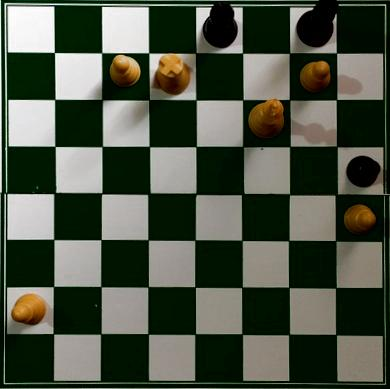black-king: (295, 1, 342, 48)
black-pawn: (344, 154, 380, 188)
black-rook: (200, 1, 240, 49)
white-king: (245, 95, 286, 140)
white-pawn: (295, 58, 333, 96), (9, 292, 48, 328), (106, 53, 142, 90), (341, 201, 378, 236)
white-rook: (154, 51, 192, 95)
